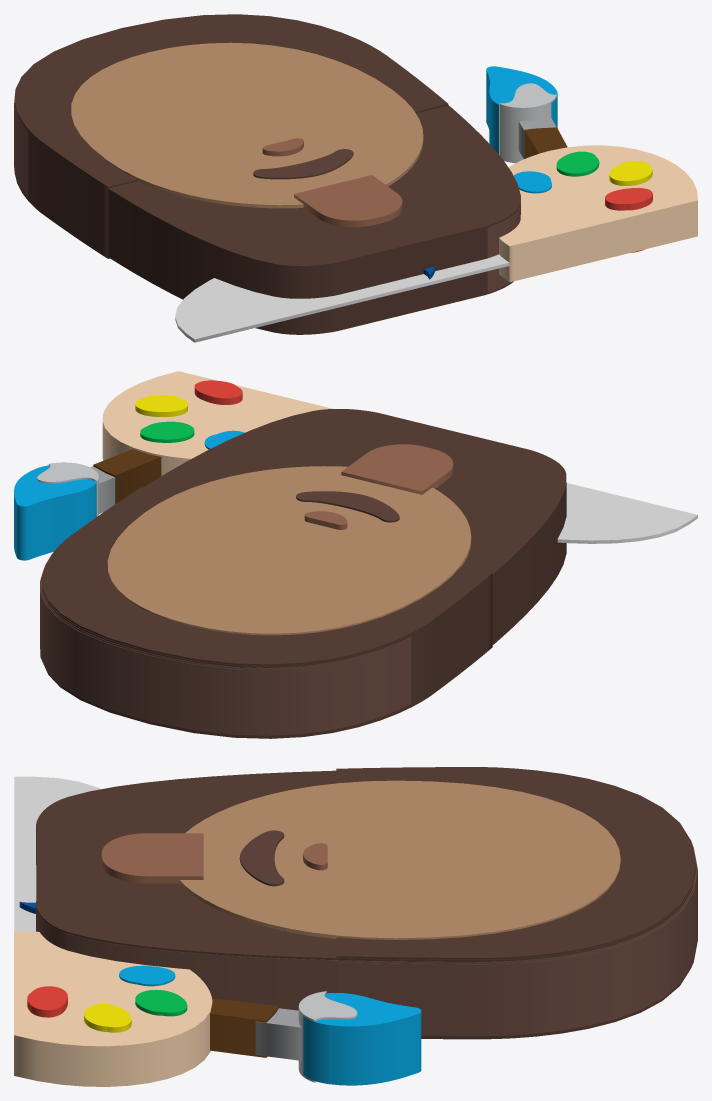
File: emoji_u1f469_1f3fd_200d_1f3a8.glb
3 renders of one model, top to bottom at view 1: azimuth 30°, elevation 25°; view 2: azimuth 150°, elevation 25°; view 3: azimuth 270°, elevation 25°, orthographic. The views are drawn at different scales.
Visible parts, largest first — view 1: emoji_u1f469_1f3fd_200d_1f3a8; view 2: emoji_u1f469_1f3fd_200d_1f3a8; view 3: emoji_u1f469_1f3fd_200d_1f3a8.
Part boxes in pixels (x1,y1,x2,y2): emoji_u1f469_1f3fd_200d_1f3a8: (14,14,697,342); emoji_u1f469_1f3fd_200d_1f3a8: (14,371,697,738); emoji_u1f469_1f3fd_200d_1f3a8: (14,767,697,1086).
Bounding box in the file's own units: 0.0334 × 0.0052 × 0.0335.
